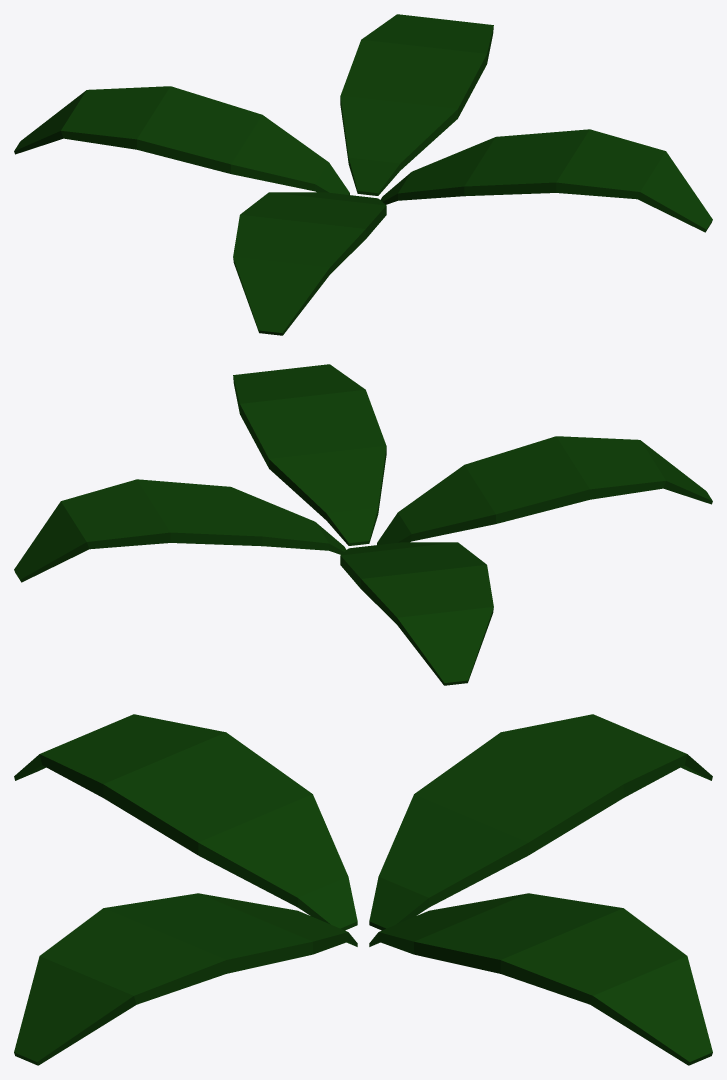
The model's file is Plant_1.fbx.
The picture shows the model from 3 angles, top to bottom: view 1: azimuth 30°, elevation 25°; view 2: azimuth 150°, elevation 25°; view 3: azimuth 270°, elevation 25°; orthographic projection. The views are drawn at different scales.
Parts seen in each view (by area): view 1: Plant_1; view 2: Plant_1; view 3: Plant_1.
Part boxes in pixels (x1=…): Plant_1: x1=14, y1=14, x2=712, y2=335; Plant_1: x1=14, y1=364, x2=712, y2=685; Plant_1: x1=14, y1=714, x2=712, y2=1065.
Size of the model in its own units: 6.38 by 0.907 by 6.38.
